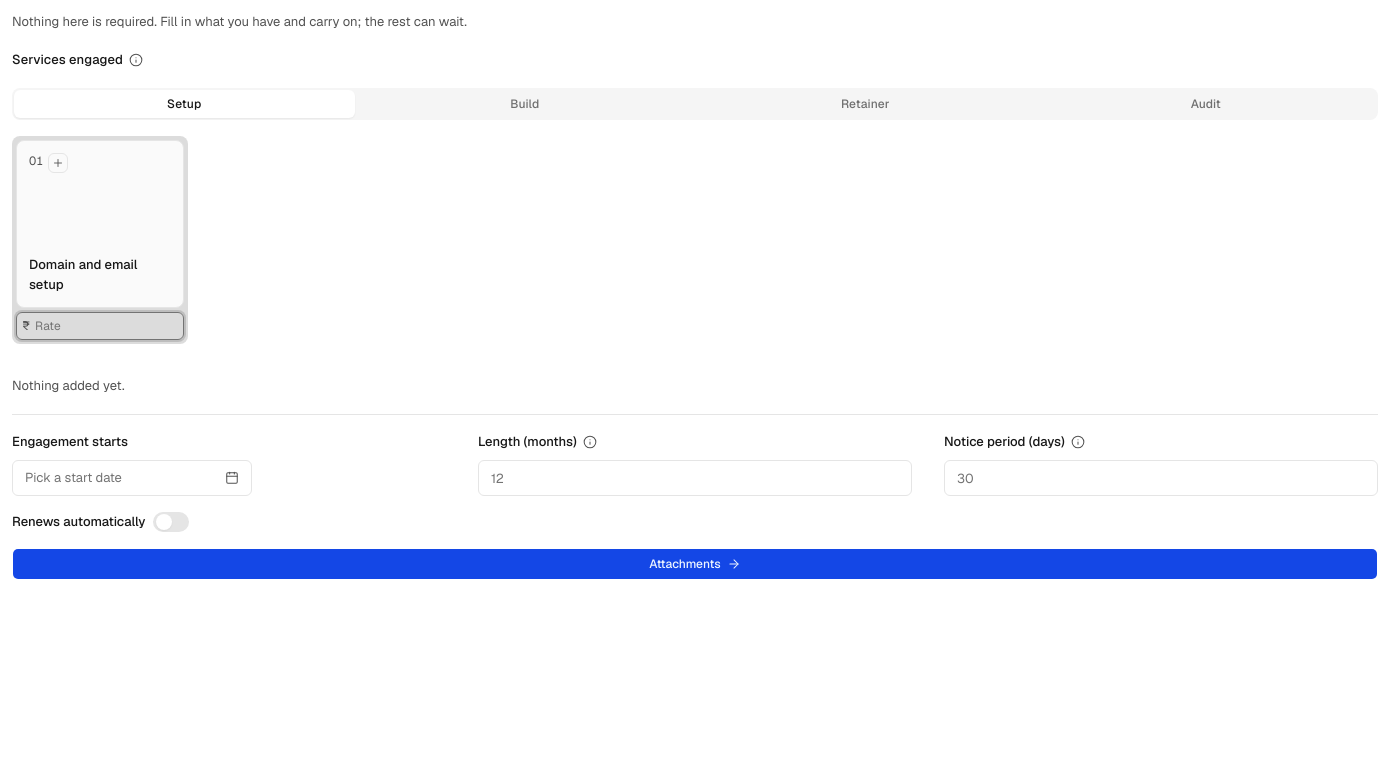
Scenario: ServicesStep › shows one Schedule at a time
Expected: the text "Domain and email setup" is shown, top-left (29, 256), bottom-right (137, 293)
Expected: the text "Shopify build" is not shown
Click the tab "Build" at (525, 104), box top-left (354, 90), bottom-right (695, 118)
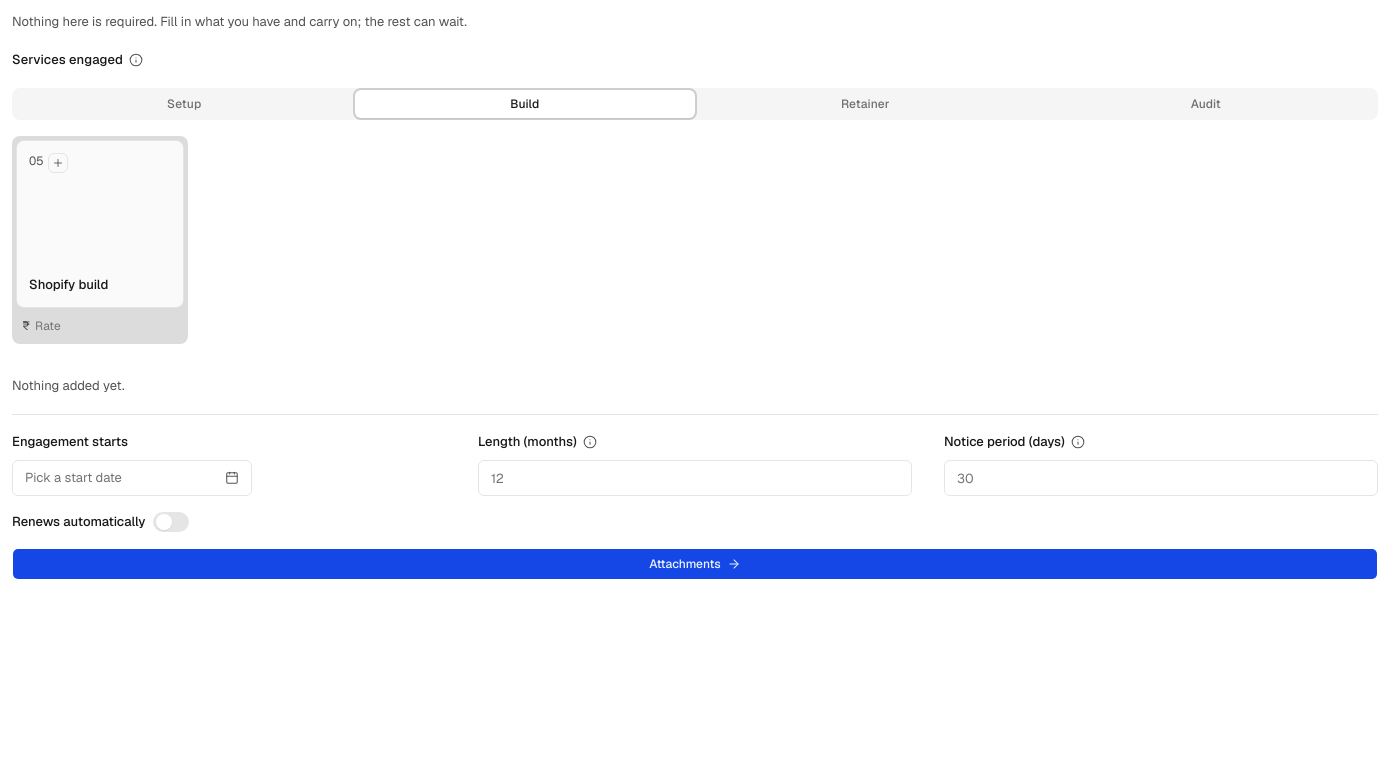
Result: the text "Shopify build" is shown at top-left (29, 275), bottom-right (108, 295)
Result: the button "Domain and email setup" is gone
